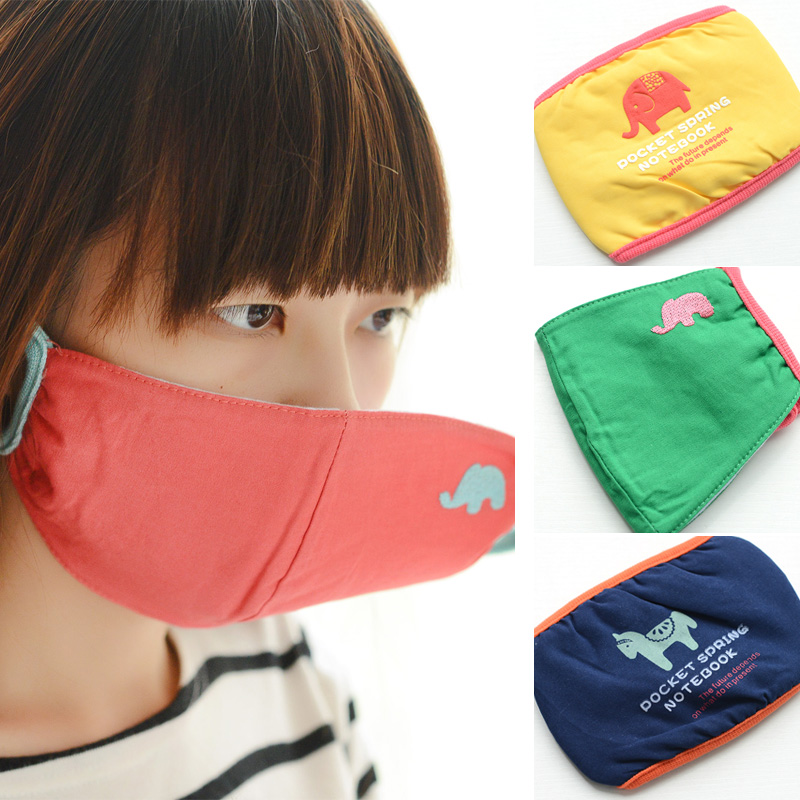face_mask: (1, 280, 511, 625)
